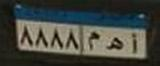8: (19, 23, 34, 50), (34, 26, 49, 52), (64, 28, 79, 53), (50, 27, 63, 51)
alif: (129, 31, 139, 57)
haa: (104, 35, 125, 54)
meem: (87, 29, 101, 53)
